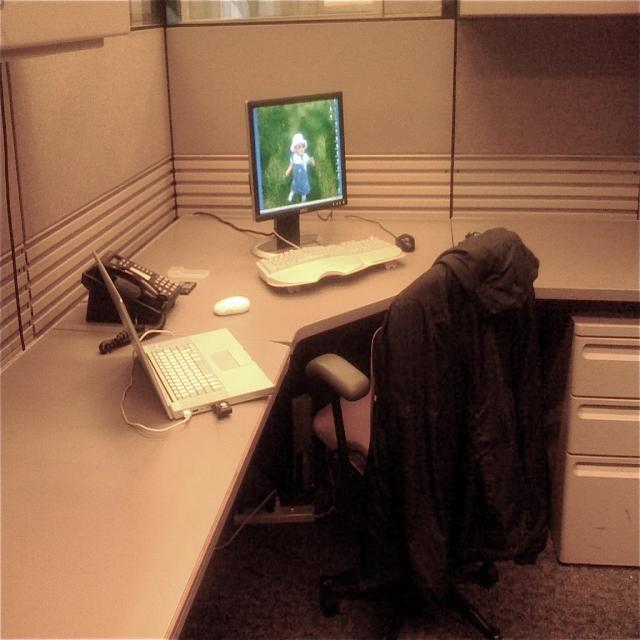others: (52, 71, 620, 622)
